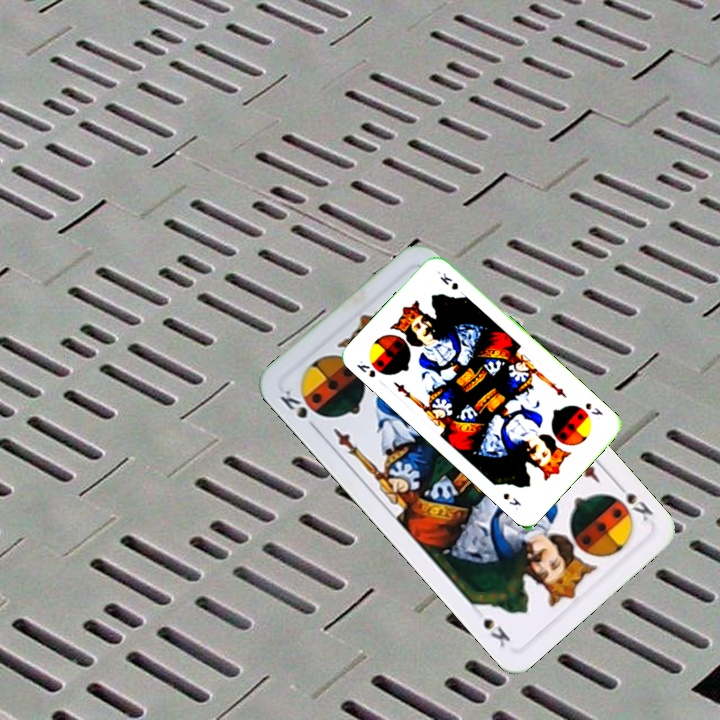SK: (605, 477, 656, 525), (275, 385, 321, 434), (352, 356, 378, 380), (581, 399, 606, 418)
